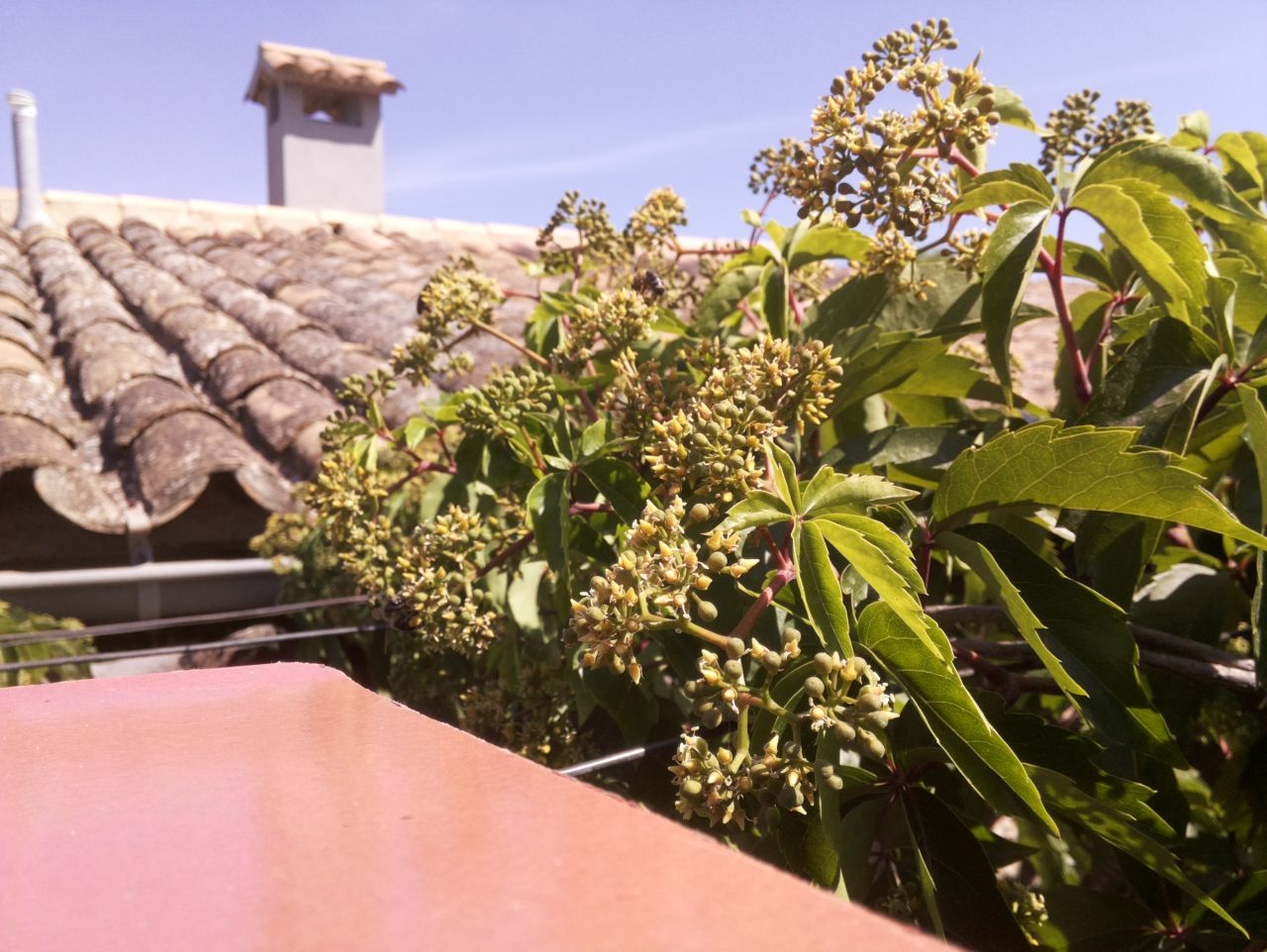Apis mellifera: (622, 266, 673, 305)
Unidentified insect: (410, 281, 442, 327)
